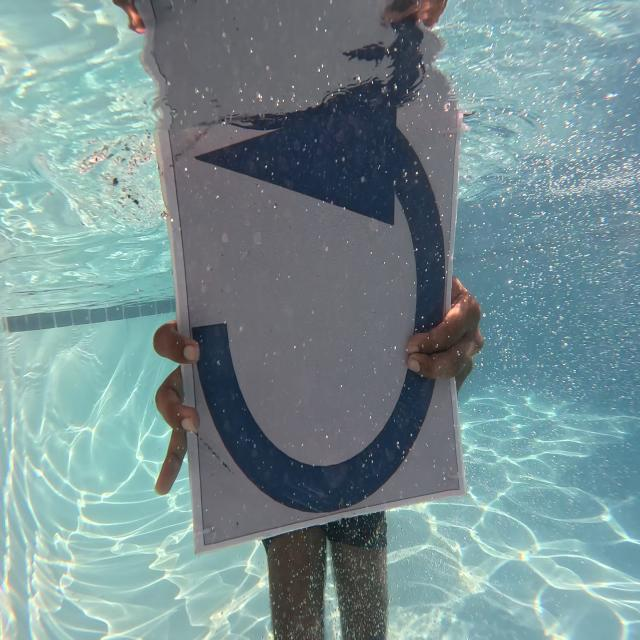blue_side: (189, 82, 468, 535)
